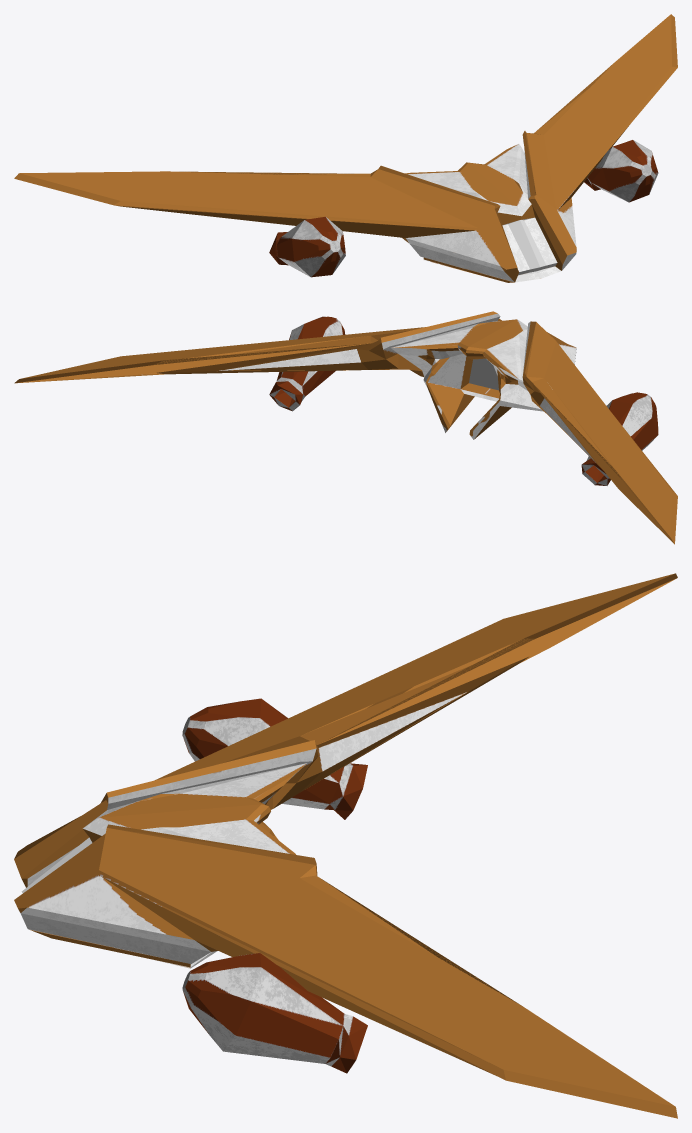
The model's file is SpaceShuttle.fbx.
3 renders of one model, top to bottom at view 1: azimuth 30°, elevation 25°; view 2: azimuth 150°, elevation 25°; view 3: azimuth 270°, elevation 25°, orthographic. The views are drawn at different scales.
Parts seen in each view (by area): view 1: Body, Engine, Glass; view 2: Body, Engine, Door; view 3: Body, Engine.
Boxes of the visible parts, x1=… form: Body: x1=14, y1=14, x2=677, y2=282; Engine: x1=269, y1=140, x2=658, y2=277; Glass: x1=503, y1=217, x2=546, y2=269; Body: x1=14, y1=311, x2=677, y2=544; Engine: x1=269, y1=316, x2=658, y2=485; Door: x1=469, y1=358, x2=498, y2=390; Body: x1=14, y1=573, x2=677, y2=1118; Engine: x1=182, y1=698, x2=367, y2=1073.
Bounding box in the file's own units: 24613 × 3075 × 12771.
